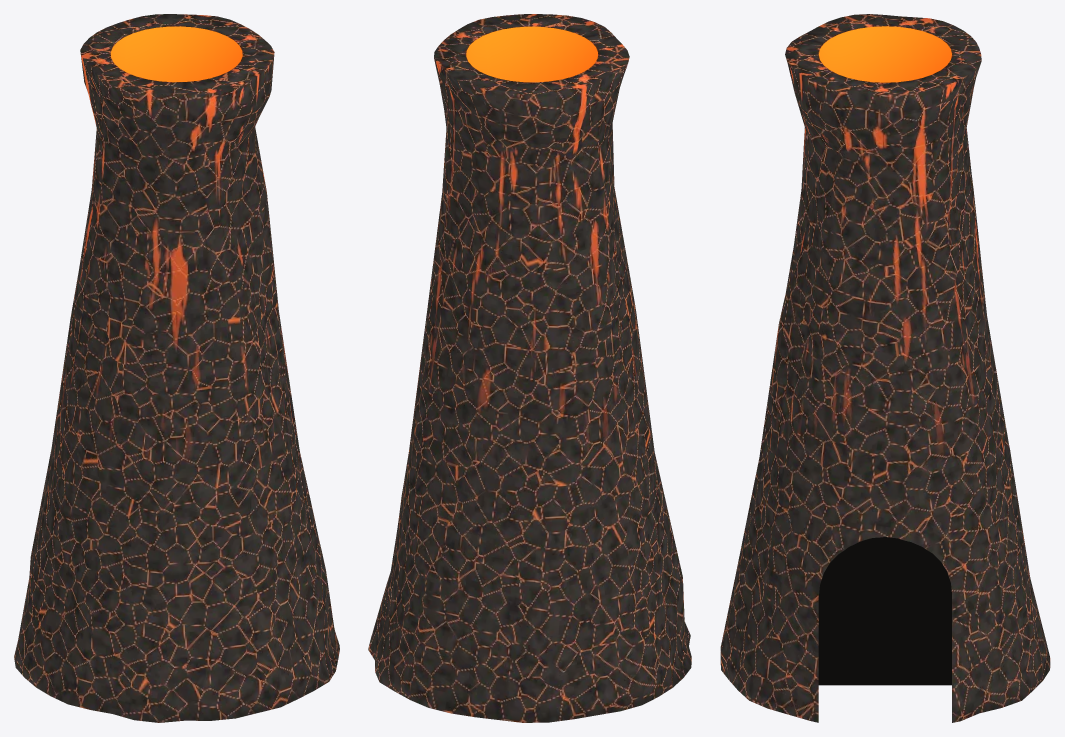
File: volcano.glb
3 renders of one model, left to right at view 1: azimuth 30°, elevation 25°; view 2: azimuth 150°, elevation 25°; view 3: azimuth 270°, elevation 25°, orthographic.
Parts seen in each view (by area): view 1: cone; view 2: cone; view 3: cone.
Boxes of the visible parts, x1=… form: cone: x1=14, y1=14, x2=339, y2=722; cone: x1=368, y1=14, x2=691, y2=722; cone: x1=720, y1=14, x2=1050, y2=722.
Bounding box in the file's own units: 7.1 × 15 × 7.42.
3 materials, 1 textured.
